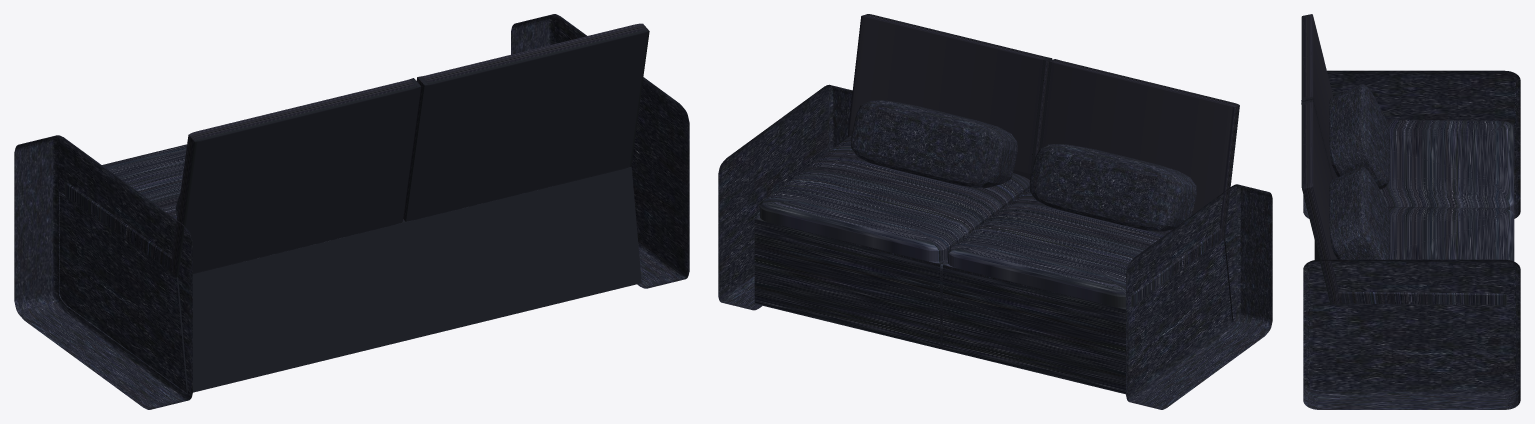
Rendered from sofa_grande.fbx.
The picture shows the model from 3 angles, left to right: view 1: azimuth 30°, elevation 25°; view 2: azimuth 150°, elevation 25°; view 3: azimuth 270°, elevation 25°; orthographic projection. The views are drawn at different scales.
Visible parts, largest first — view 1: Cube; view 2: Cube; view 3: Cube.
Part boxes in pixels (x1=…): Cube: x1=14, y1=14, x2=689, y2=409; Cube: x1=718, y1=14, x2=1272, y2=409; Cube: x1=1301, y1=14, x2=1520, y2=409.
Size of the model in its own units: 304 by 144 by 137.
1 material, 1 textured.
